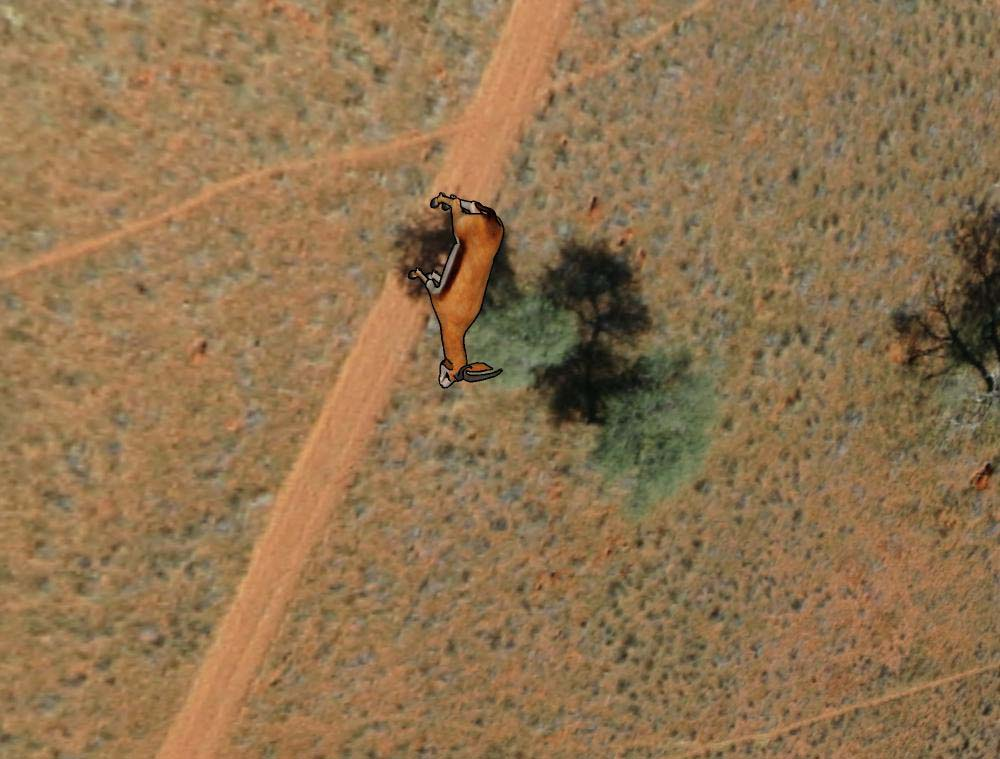springbok: (399, 179, 508, 388)
